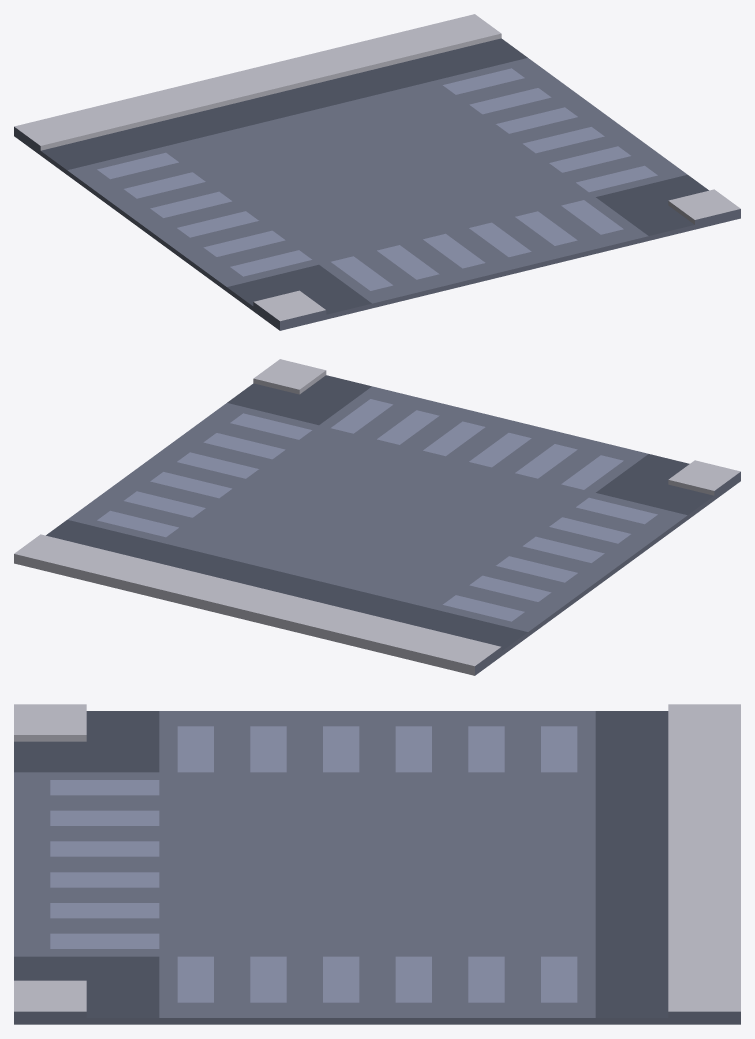
File: road_intersectionPath.glb
3 renders of one model, top to bottom at view 1: azimuth 30°, elevation 25°; view 2: azimuth 150°, elevation 25°; view 3: azimuth 270°, elevation 25°, orthographic. The views are drawn at different scales.
Parts seen in each view (by area): view 1: road_intersectionPath_116edc, road_intersectionPath_9db5f7, road_intersectionPath_97e366, road_intersectionPath_109fef; view 2: road_intersectionPath_116edc, road_intersectionPath_97e366, road_intersectionPath_9db5f7, road_intersectionPath_109fef; view 3: road_intersectionPath_116edc, road_intersectionPath_9db5f7, road_intersectionPath_109fef, road_intersectionPath_97e366.
Part boxes in pixels (left/top/right/bottom): road_intersectionPath_116edc: left=14, top=58, right=740, bottom=330; road_intersectionPath_9db5f7: left=41, top=38, right=708, bottom=314; road_intersectionPath_97e366: left=14, top=14, right=740, bottom=321; road_intersectionPath_109fef: left=97, top=68, right=657, bottom=290; road_intersectionPath_116edc: left=67, top=386, right=740, bottom=675; road_intersectionPath_97e366: left=14, top=359, right=740, bottom=675; road_intersectionPath_9db5f7: left=46, top=375, right=713, bottom=650; road_intersectionPath_109fef: left=97, top=399, right=657, bottom=621; road_intersectionPath_116edc: left=14, top=711, right=740, bottom=1024; road_intersectionPath_9db5f7: left=14, top=711, right=668, bottom=1017; road_intersectionPath_109fef: left=50, top=726, right=577, bottom=1002; road_intersectionPath_97e366: left=14, top=704, right=740, bottom=1011.
Size of the model in its own units: 1 by 0.02 by 1.
